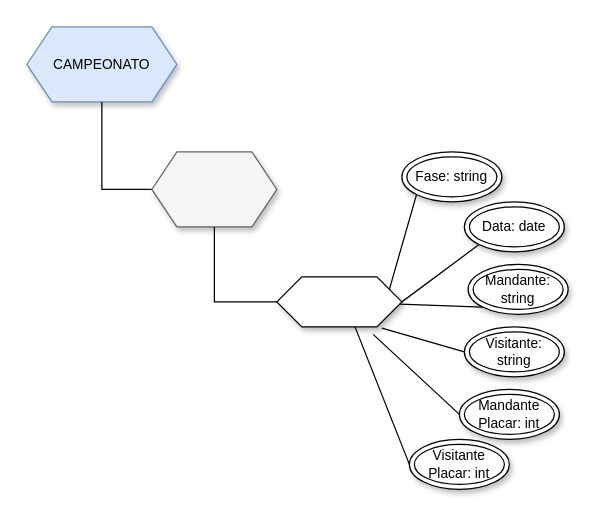
Image size: 598x520. Some labels were removed from this diagram. The centre of each missing label's shape, as x and y in pixels:
"PARTIDA" goes at (340,303).
"PARTIDAS" goes at (215,191).
